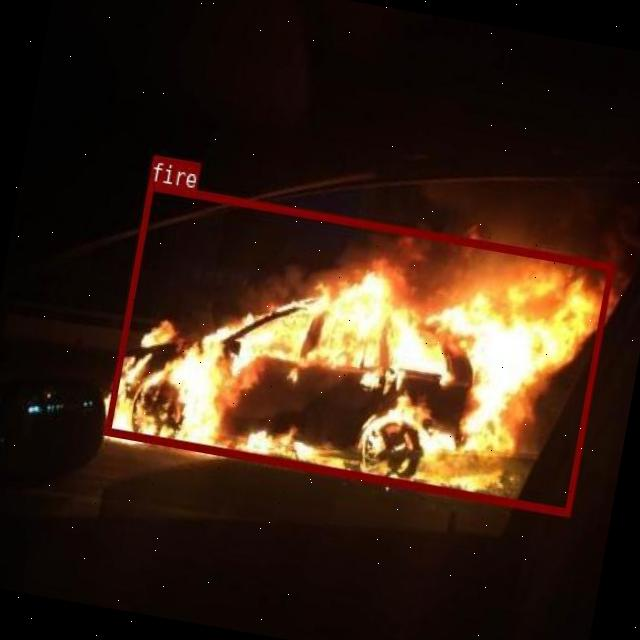fire: (103, 181, 612, 514)
